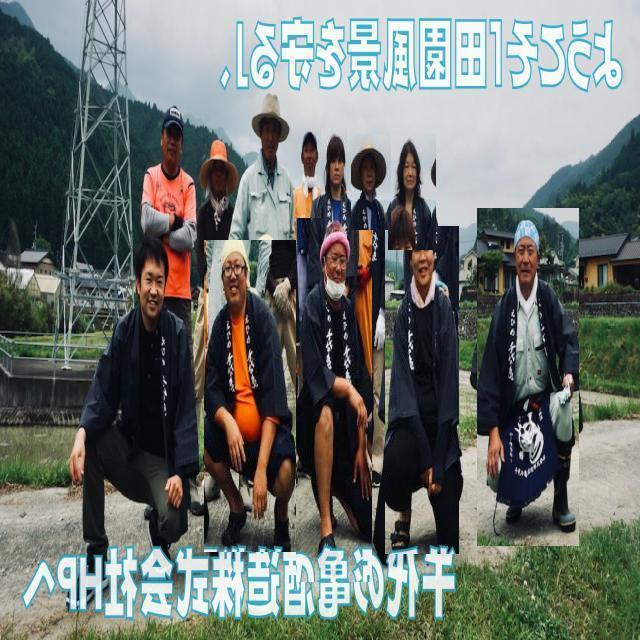direk: (67, 248, 193, 606), (477, 208, 579, 546), (204, 240, 296, 552), (296, 218, 372, 582), (385, 226, 459, 554), (238, 94, 292, 290), (140, 98, 192, 290), (199, 137, 237, 293), (388, 134, 436, 250), (351, 134, 391, 230), (321, 128, 347, 244), (297, 121, 317, 226)
